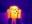Hotspot: (6, 4, 23, 19)
